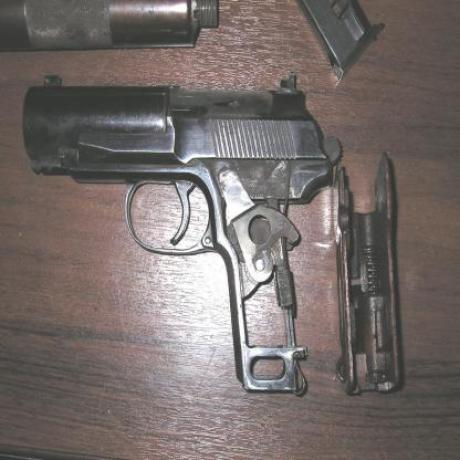weapon: (17, 73, 325, 398)
